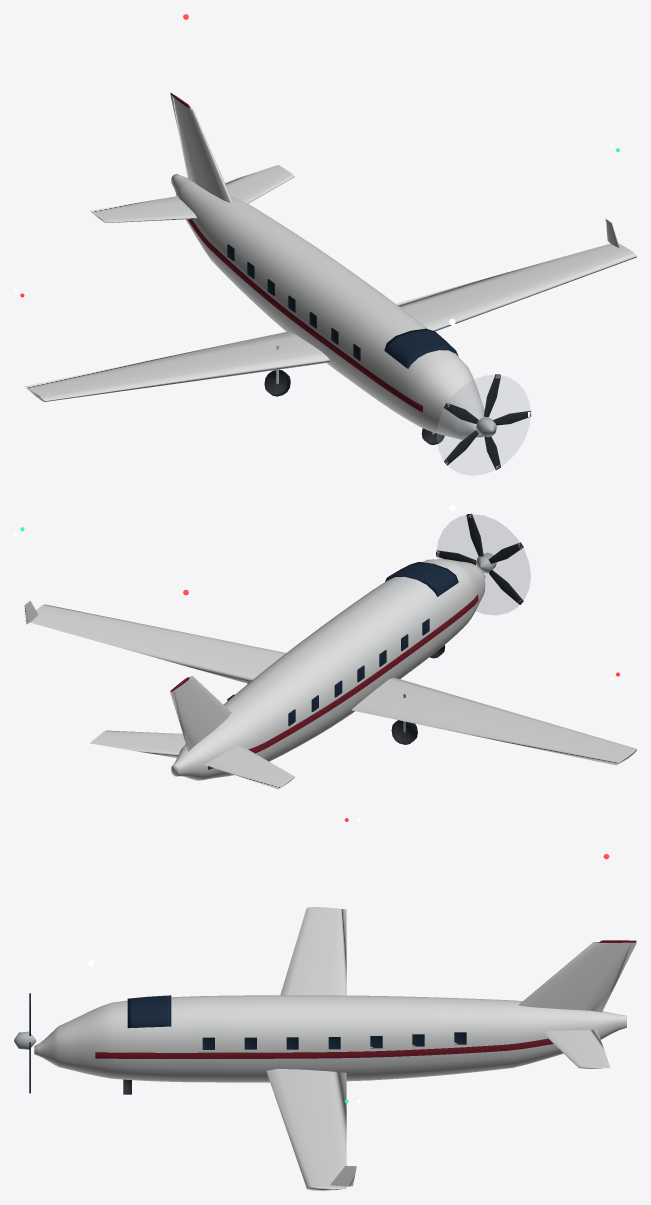
The picture shows the model from 3 angles, top to bottom: view 1: azimuth 30°, elevation 25°; view 2: azimuth 150°, elevation 25°; view 3: azimuth 270°, elevation 25°; orthographic projection. The views are drawn at different scales.
Visible parts, largest first — view 1: body, disc0, prop0; view 2: body, disc0, prop0, gearL; view 3: body.
Part boxes in pixels (x1,y1,x2,y2): body: (24, 92, 636, 439); disc0: (437, 375, 530, 475); prop0: (444, 374, 531, 470); body: (24, 559, 636, 789); disc0: (437, 514, 530, 614); prop0: (436, 513, 523, 604); gearL: (391, 694, 417, 744); body: (34, 907, 636, 1190).
Size of the model in its own units: 16.5 by 6.6 by 15.35.
